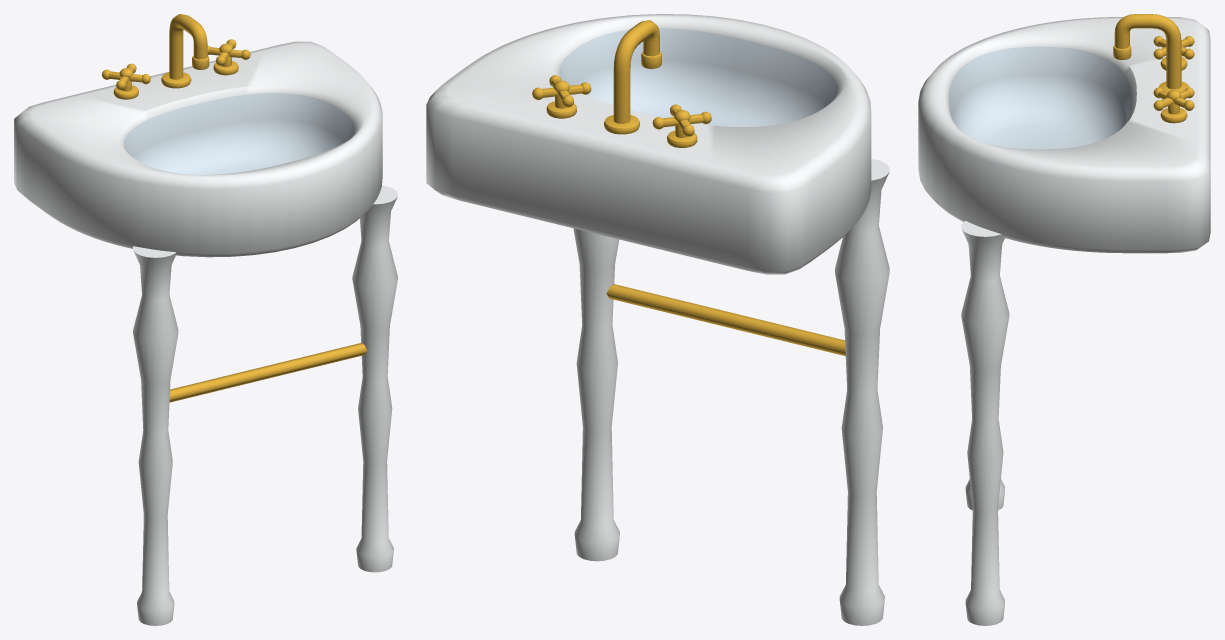
Rendered from pia_console_branca.glb.
3 views of the same model, side by side, from view 1: azimuth 30°, elevation 25°; view 2: azimuth 150°, elevation 25°; view 3: azimuth 270°, elevation 25° (orthographic). The views are drawn at different scales.
Parts seen in each view (by area): view 1: pia_console_branca; view 2: pia_console_branca; view 3: pia_console_branca.
Boxes of the visible parts, x1,y1,x2,y2 form: pia_console_branca: [14, 14, 397, 625]; pia_console_branca: [426, 14, 889, 625]; pia_console_branca: [918, 14, 1210, 625].
Bounding box in the file's own units: 0.62 × 0.9925 × 0.48.
Materials: 1 (1 with a texture image).
